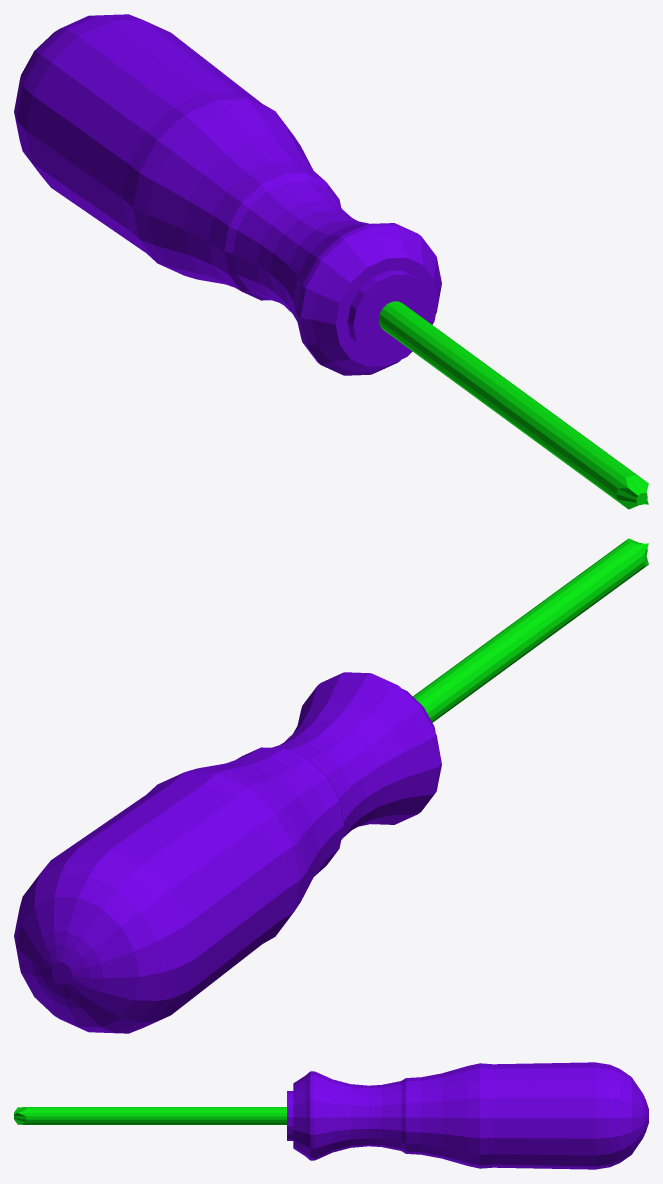
The model's file is Screwdriver.fbx.
3 renders of one model, top to bottom at view 1: azimuth 30°, elevation 25°; view 2: azimuth 150°, elevation 25°; view 3: azimuth 270°, elevation 25°, orthographic. The views are drawn at different scales.
Visible parts, largest first — view 1: Screwdriver; view 2: Screwdriver; view 3: Screwdriver.
Part boxes in pixels (box(x1,y1,x2,y2)): Screwdriver: box(14, 14, 648, 509); Screwdriver: box(14, 538, 648, 1033); Screwdriver: box(14, 1062, 648, 1169).
Size of the model in its own units: 3.56 by 3.56 by 21.03.
